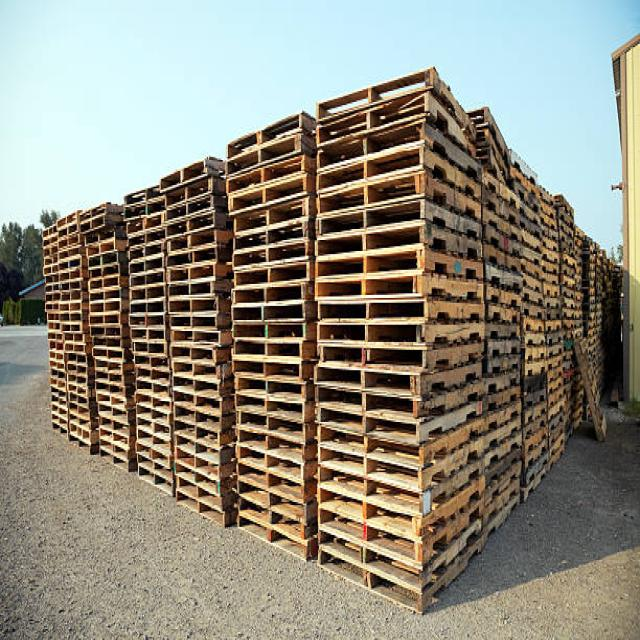Wooden-Pallets: (307, 535, 437, 626), (312, 61, 439, 133), (309, 143, 423, 212), (311, 351, 431, 414), (220, 96, 314, 175), (312, 455, 426, 520)
